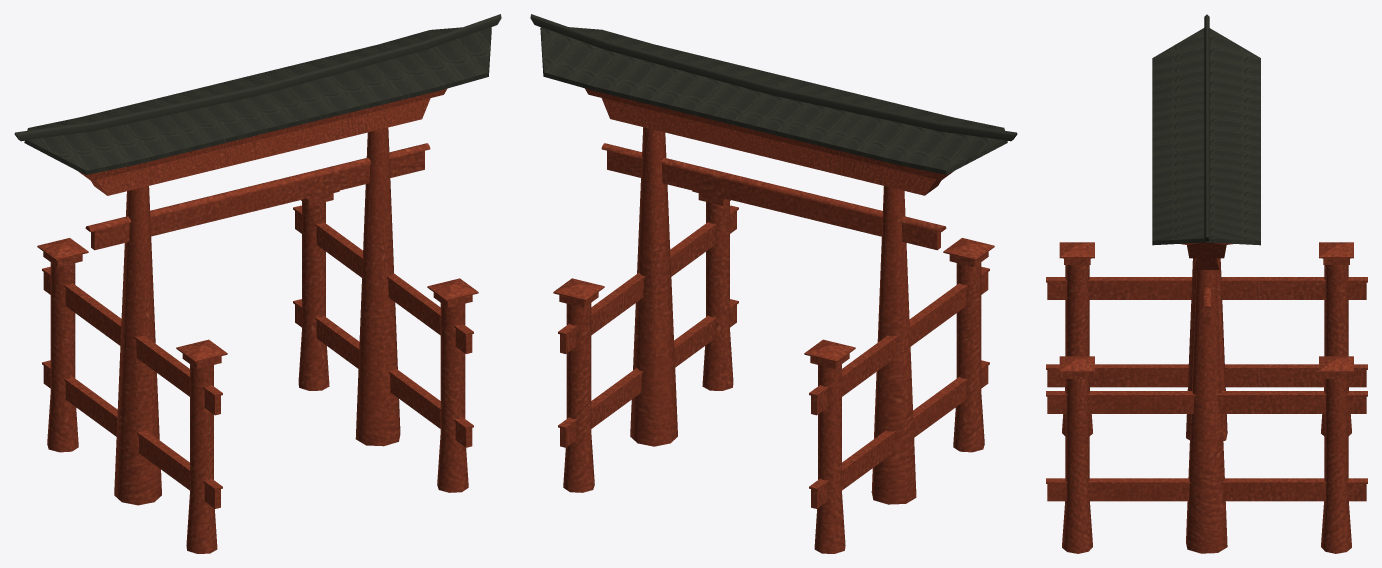
Rendered from tokyo_track_gate.dae.
The picture shows the model from 3 angles, left to right: view 1: azimuth 30°, elevation 25°; view 2: azimuth 150°, elevation 25°; view 3: azimuth 270°, elevation 25°; orthographic projection. The views are drawn at different scales.
Parts seen in each view (by area): view 1: gate_01; view 2: gate_01; view 3: gate_01.
Part boxes in pixels (left/top/right/bottom): gate_01: left=14, top=14, right=501, bottom=553; gate_01: left=530, top=14, right=1017, bottom=553; gate_01: left=1046, top=14, right=1367, bottom=553.
Size of the model in its own units: 27.46 by 21.22 by 16.91.
2 materials, 2 textured.
